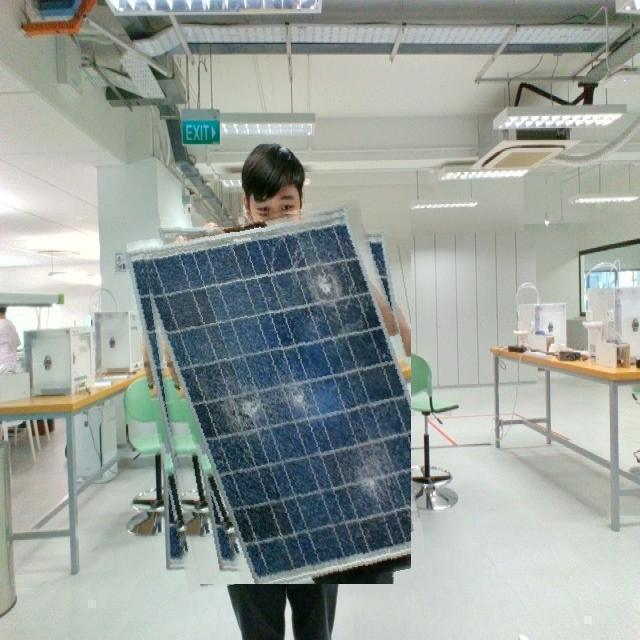Anomaly Solar Panel: (138, 220, 414, 579)
Structural Damage: (283, 243, 378, 357), (193, 372, 325, 439), (336, 430, 403, 520)
